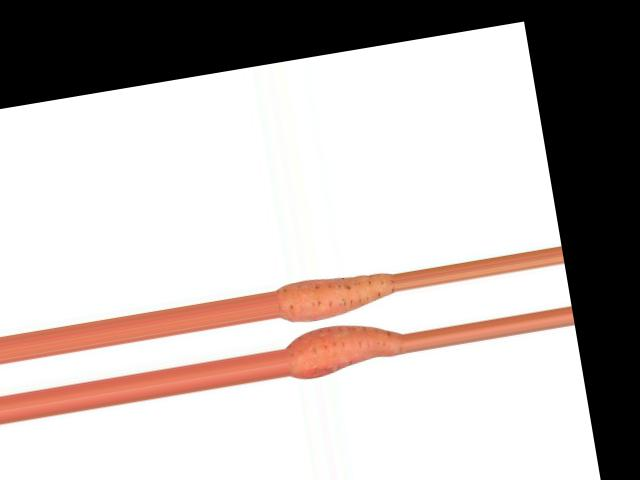sweet_potato: (274, 268, 395, 327)
